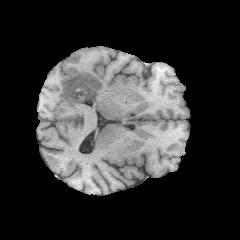glioma: (59, 71, 103, 106)
